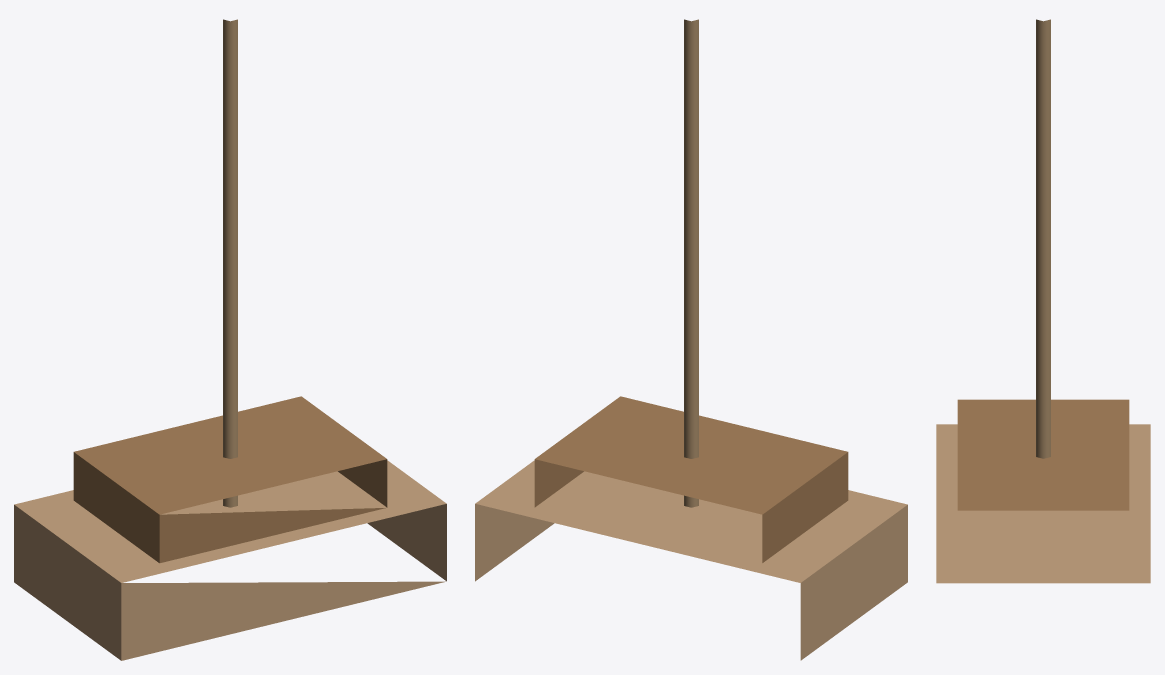
File: ASTX_BOAT_ROW.glb
3 renders of one model, left to right at view 1: azimuth 30°, elevation 25°; view 2: azimuth 150°, elevation 25°; view 3: azimuth 270°, elevation 25°, orthographic.
Visible parts, largest first — view 1: ASTX_BOAT_ROW_hull, ASTX_BOAT_ROW_gunwale, ASTX_BOAT_ROW_mastPIVOT; view 2: ASTX_BOAT_ROW_hull, ASTX_BOAT_ROW_gunwale, ASTX_BOAT_ROW_mastPIVOT; view 3: ASTX_BOAT_ROW_hull, ASTX_BOAT_ROW_gunwale, ASTX_BOAT_ROW_mastPIVOT.
Boxes of the visible parts, box(x1,y1,x2,y2) form: ASTX_BOAT_ROW_hull: box(14, 460, 446, 660); ASTX_BOAT_ROW_gunwale: box(73, 396, 387, 563); ASTX_BOAT_ROW_mastPIVOT: box(223, 19, 237, 507); ASTX_BOAT_ROW_hull: box(475, 460, 907, 660); ASTX_BOAT_ROW_gunwale: box(534, 396, 848, 562); ASTX_BOAT_ROW_mastPIVOT: box(684, 19, 698, 507); ASTX_BOAT_ROW_hull: box(936, 424, 1150, 583); ASTX_BOAT_ROW_gunwale: box(957, 399, 1129, 510); ASTX_BOAT_ROW_mastPIVOT: box(1036, 19, 1050, 458).
Bounding box in the file's own units: 3.5 × 5.8 × 2.
